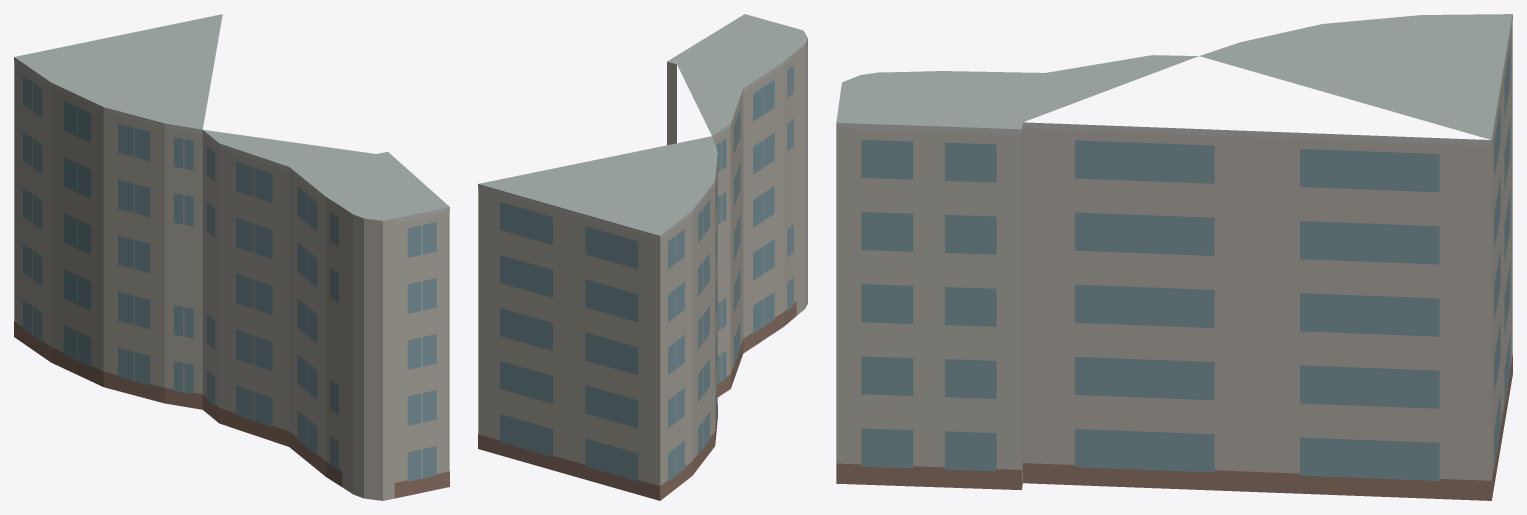
The model's file is survey-upis-32494463.glb.
3 renders of one model, left to right at view 1: azimuth 30°, elevation 25°; view 2: azimuth 150°, elevation 25°; view 3: azimuth 270°, elevation 25°, orthographic. The views are drawn at different scales.
Parts seen in each view (by area): view 1: survey-upis-32494463.tmp; view 2: survey-upis-32494463.tmp; view 3: survey-upis-32494463.tmp.
Part boxes in pixels (x1,y1,x2,y2): survey-upis-32494463.tmp: (14, 14, 449, 500); survey-upis-32494463.tmp: (478, 14, 807, 500); survey-upis-32494463.tmp: (836, 14, 1512, 500).
Size of the model in its own units: 11.14 by 14.85 by 25.24.
